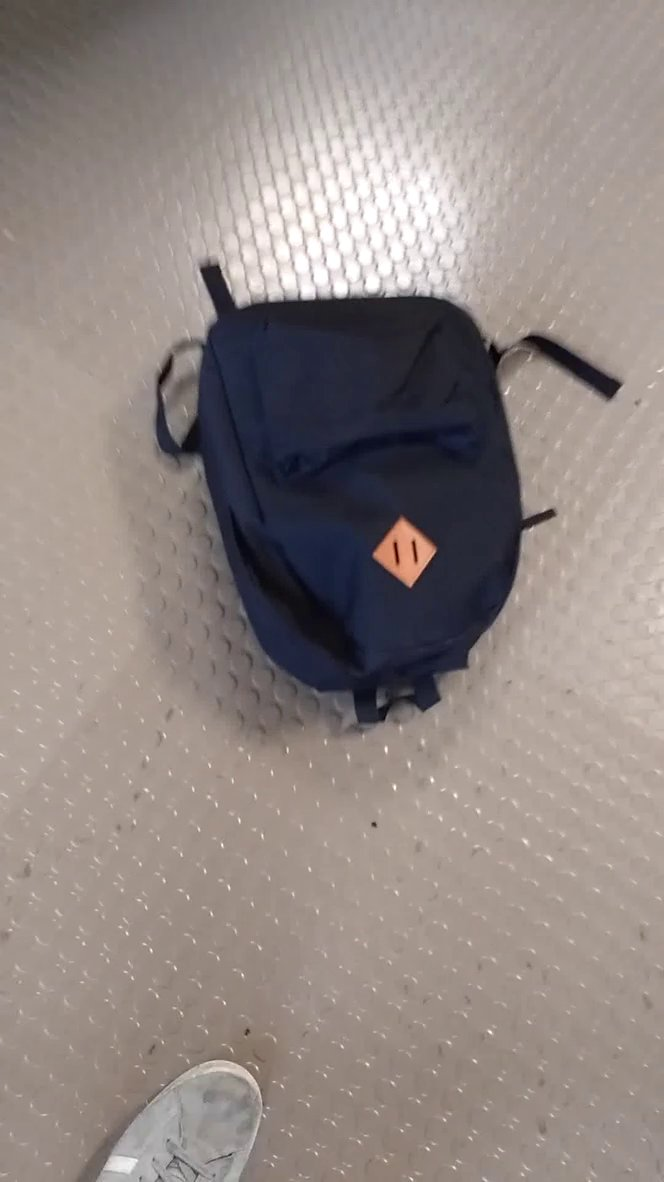bag: (147, 255, 632, 736)
